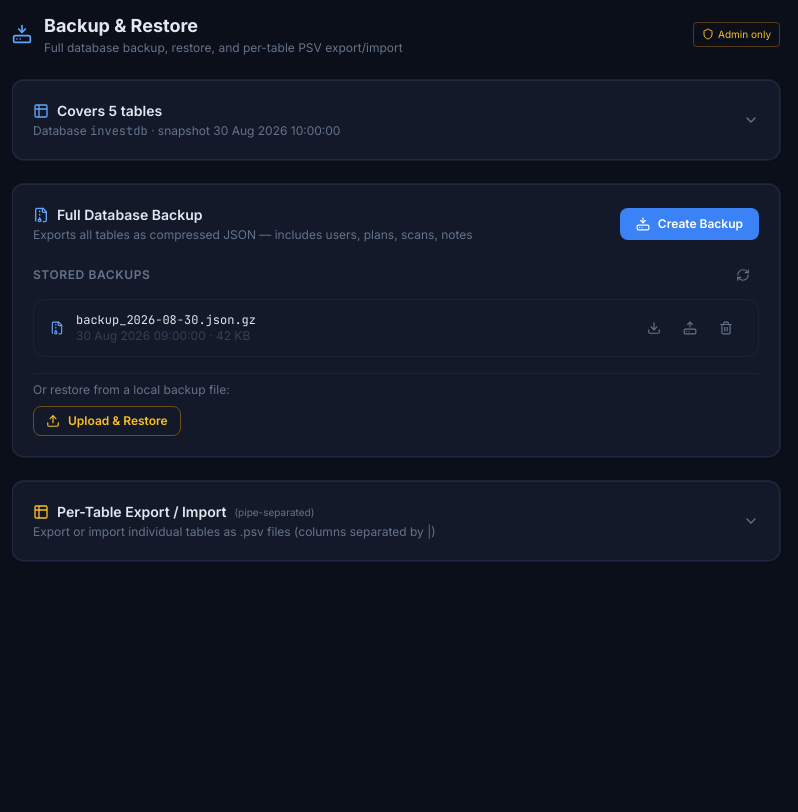
Test: BackupPage — coverage card › renders "Covers N tables" from /backup/tables, with owner badge and the non-restorable note
Click the button "Covers 5 tables" at (83, 110), box [33,101,759,139]
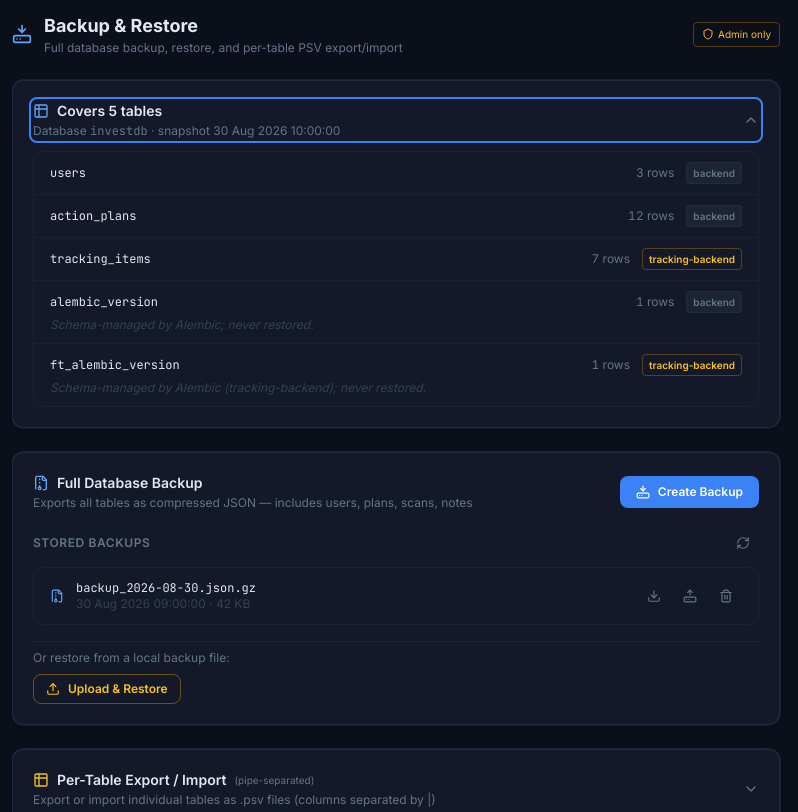
Check: the text "users" is shown, box [50,165,86,181]
Check: the text "action_plans" is shown, box [50,208,136,224]
Check: the text "tracking_items" is shown, box [50,251,151,267]
